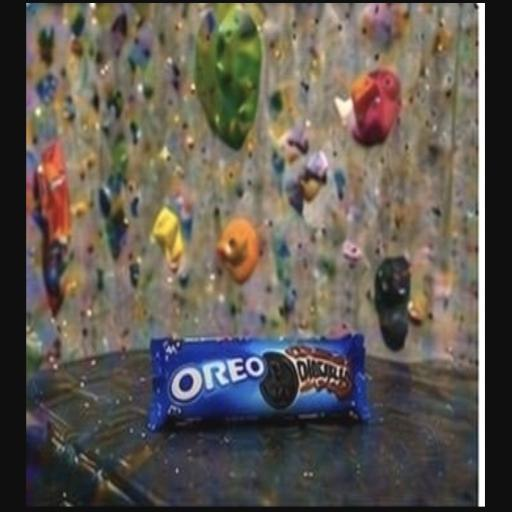oreo: (106, 270, 428, 469)
